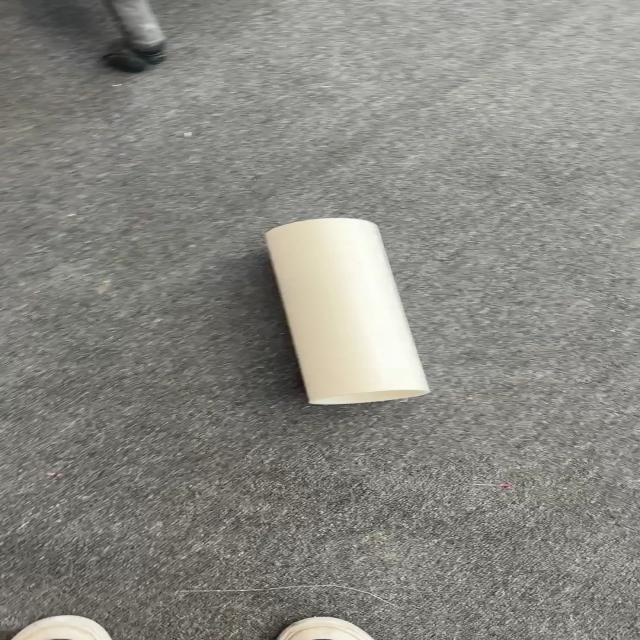Coral: (263, 217, 432, 406)
